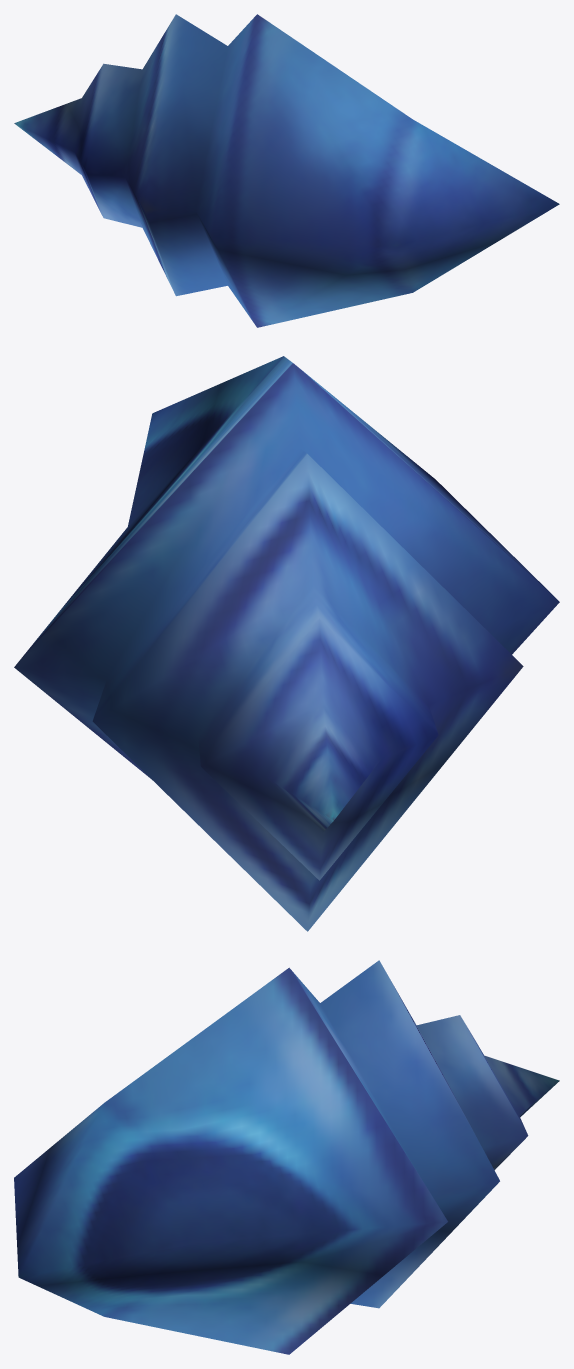
The model's file is sea_etc_11.FBX.
3 views of the same model, one above another, from view 1: azimuth 30°, elevation 25°; view 2: azimuth 150°, elevation 25°; view 3: azimuth 270°, elevation 25° (orthographic). The views are drawn at different scales.
Parts seen in each view (by area): view 1: Object165; view 2: Object165; view 3: Object165.
Boxes of the visible parts, bbox=[...] form: Object165: bbox=[14, 14, 559, 327]; Object165: bbox=[14, 356, 559, 931]; Object165: bbox=[14, 960, 559, 1354].
Size of the model in its own units: 39.38 by 46.19 by 36.15.
